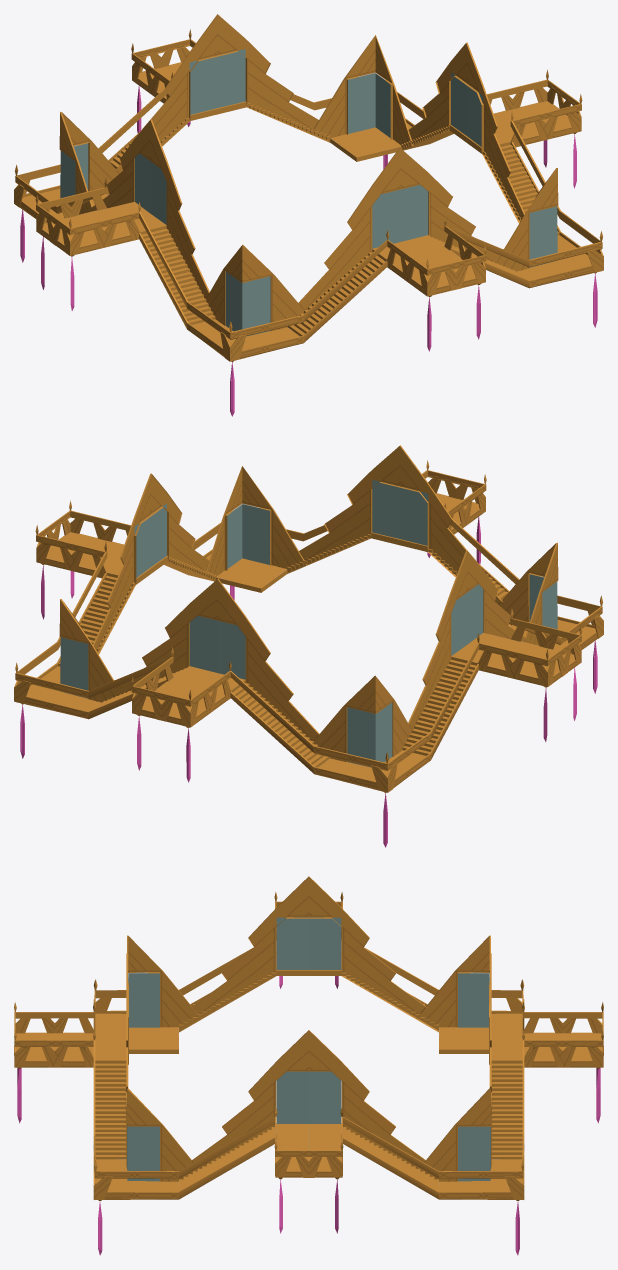
File: ModularBuilding_4_v1.fbx
3 renders of one model, top to bottom at view 1: azimuth 30°, elevation 25°; view 2: azimuth 150°, elevation 25°; view 3: azimuth 270°, elevation 25°, orthographic.
Visible parts, largest first — view 1: polySurface67 (×8), polySurface156 (×8), polySurface154 (×7), polySurface68 (×8), polySurface152 (×6), polySurface141 (×6), polySurface158 (×4), polySurface103 (×4); view 2: polySurface67 (×8), polySurface156 (×8), polySurface154 (×7), polySurface68 (×8), polySurface152 (×6), polySurface141 (×6), polySurface158 (×4), polySurface103 (×4); view 3: polySurface67 (×4), polySurface156 (×8), polySurface154 (×4), polySurface68 (×4), polySurface103 (×8), polySurface152 (×4), polySurface141 (×6), polySurface158 (×2).
Boxes of the visible parts, x1,y1,x2,y2 form: polySurface67 (×8): [92, 14, 524, 309]; polySurface156 (×8): [15, 39, 602, 339]; polySurface154 (×7): [59, 35, 558, 330]; polySurface68 (×8): [134, 49, 483, 248]; polySurface152 (×6): [60, 72, 557, 336]; polySurface141 (×6): [43, 101, 571, 287]; polySurface158 (×4): [56, 127, 593, 358]; polySurface103 (×4): [239, 123, 594, 359]; polySurface67 (×8): [93, 445, 525, 740]; polySurface156 (×8): [15, 470, 602, 770]; polySurface154 (×7): [59, 466, 558, 761]; polySurface68 (×8): [134, 480, 483, 679]; polySurface152 (×6): [60, 503, 557, 767]; polySurface141 (×6): [46, 532, 574, 718]; polySurface158 (×4): [24, 558, 561, 789]; polySurface103 (×4): [23, 554, 378, 790]; polySurface67 (×4): [191, 876, 426, 1168]; polySurface156 (×8): [14, 901, 603, 1178]; polySurface154 (×4): [127, 936, 490, 1181]; polySurface68 (×4): [276, 917, 341, 1123]; polySurface103 (×8): [95, 1013, 522, 1199]; polySurface152 (×4): [127, 972, 490, 1181]; polySurface141 (×6): [15, 1033, 602, 1170]; polySurface158 (×2): [104, 1137, 513, 1199].
Bounding box in the file's own units: 3496 × 1401 × 3496.
